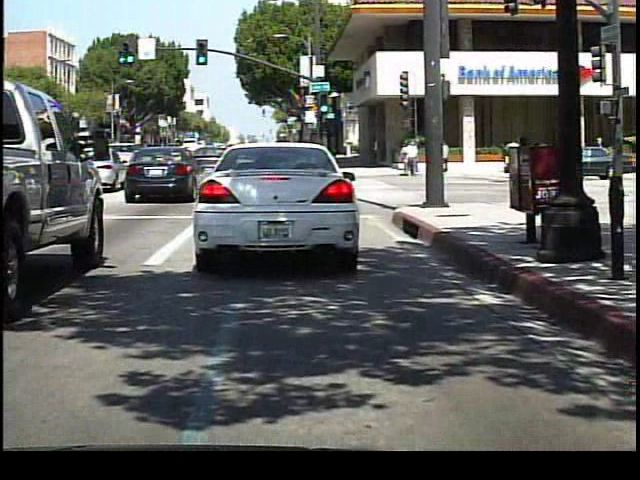person: (502, 134, 523, 175), (402, 136, 421, 179), (435, 135, 454, 172)
